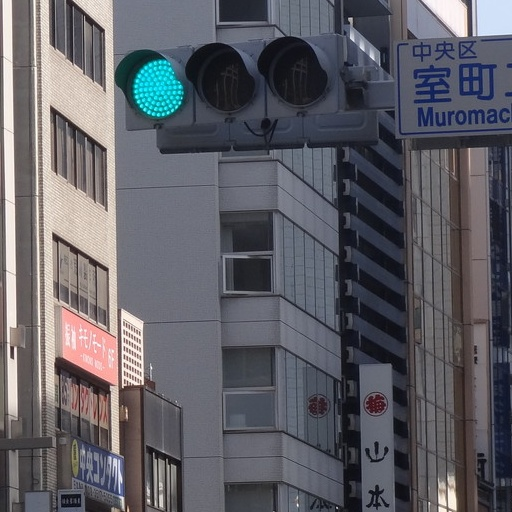Traffic_Signal_Blue: (117, 38, 341, 126)
